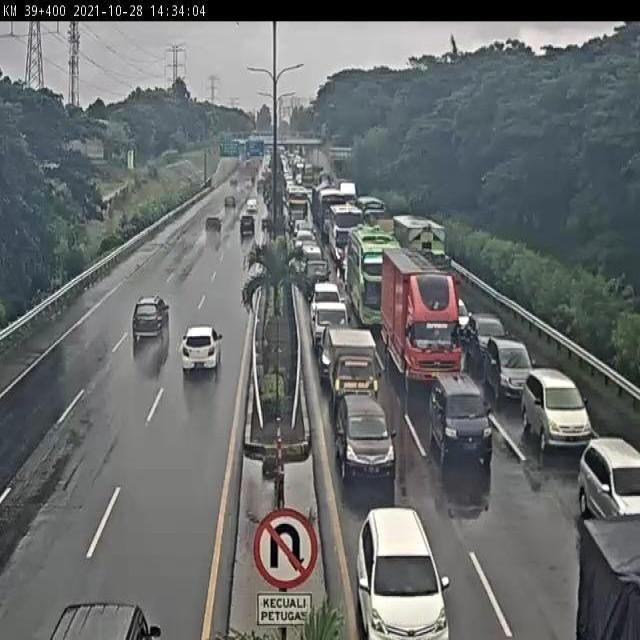big bus: (348, 228, 401, 329), (322, 202, 362, 258), (286, 186, 308, 226)
big truck: (380, 247, 459, 393), (392, 212, 456, 284), (318, 190, 347, 238), (354, 196, 383, 224)
car: (356, 497, 447, 640), (565, 424, 640, 517), (329, 391, 397, 486), (428, 372, 495, 468), (520, 364, 591, 452), (322, 328, 384, 405), (488, 339, 533, 401), (181, 324, 224, 381), (309, 296, 350, 352), (466, 313, 508, 360), (131, 297, 172, 343), (298, 258, 330, 298), (447, 293, 470, 335), (296, 238, 320, 266), (312, 278, 340, 302), (238, 213, 255, 240), (205, 213, 222, 236), (294, 222, 312, 242), (220, 198, 237, 218), (244, 198, 261, 218)
